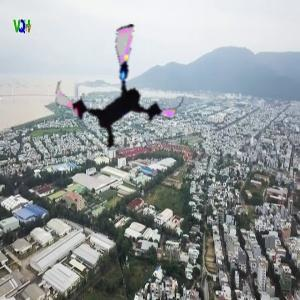drone: (52, 24, 188, 160)
